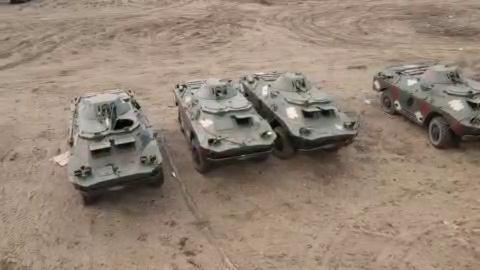tank: (66, 89, 164, 205), (242, 71, 358, 158), (173, 78, 277, 172), (372, 62, 480, 147)
